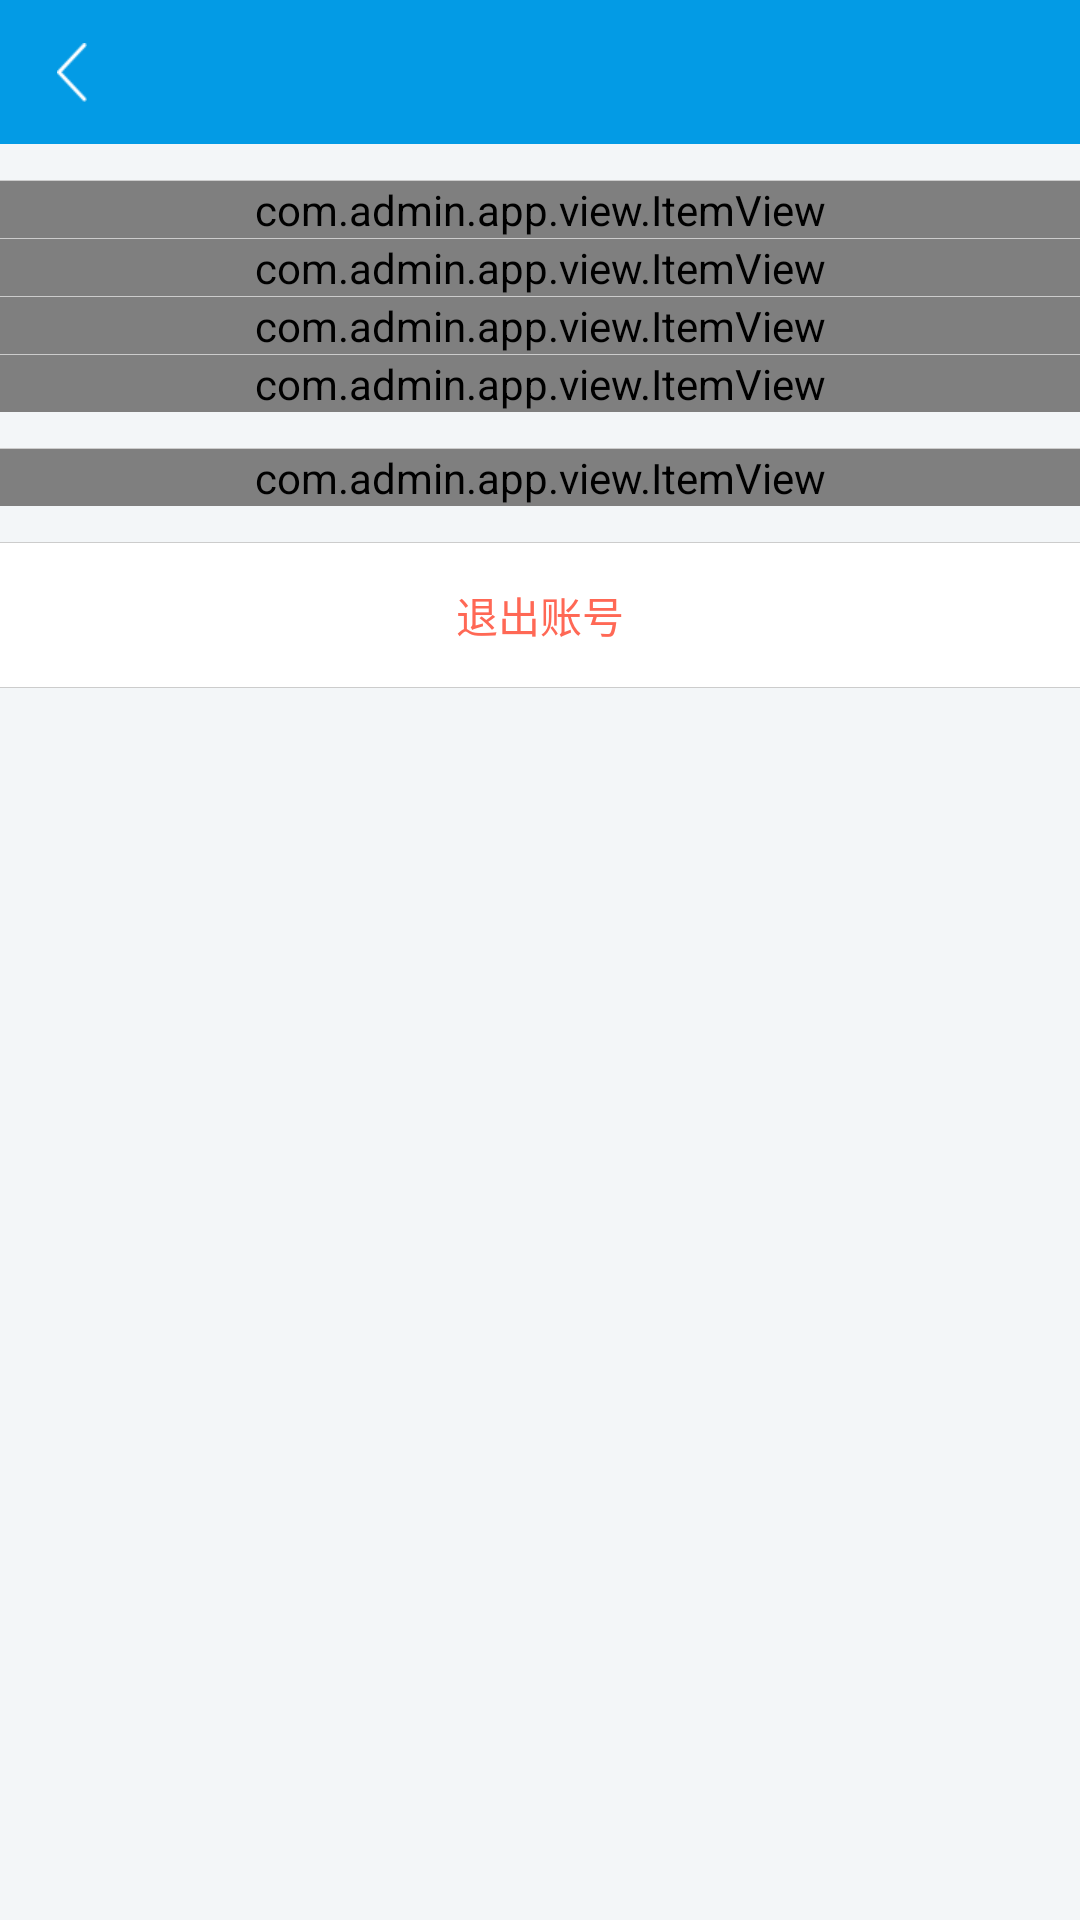

Screen size 1080w x 1920h. Icon name, then its box in pixels as bbox=[x1, y1, x2, y2]:
arrow left: bbox=[57, 43, 87, 102]
